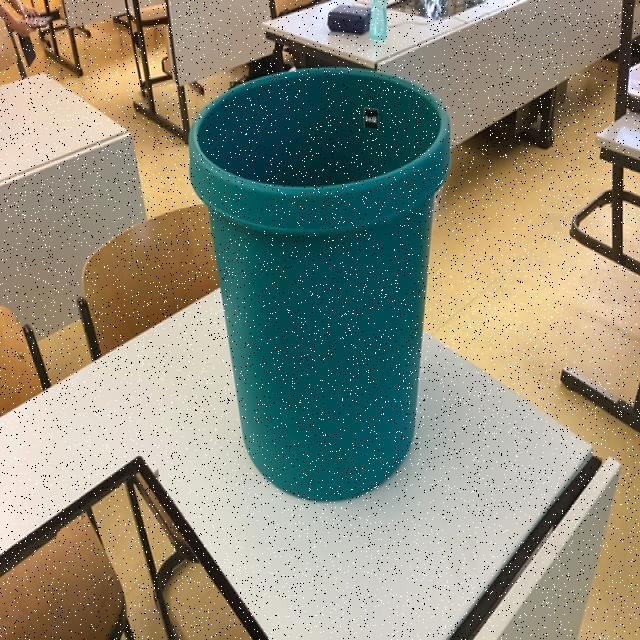garbage container: (175, 53, 451, 518)
